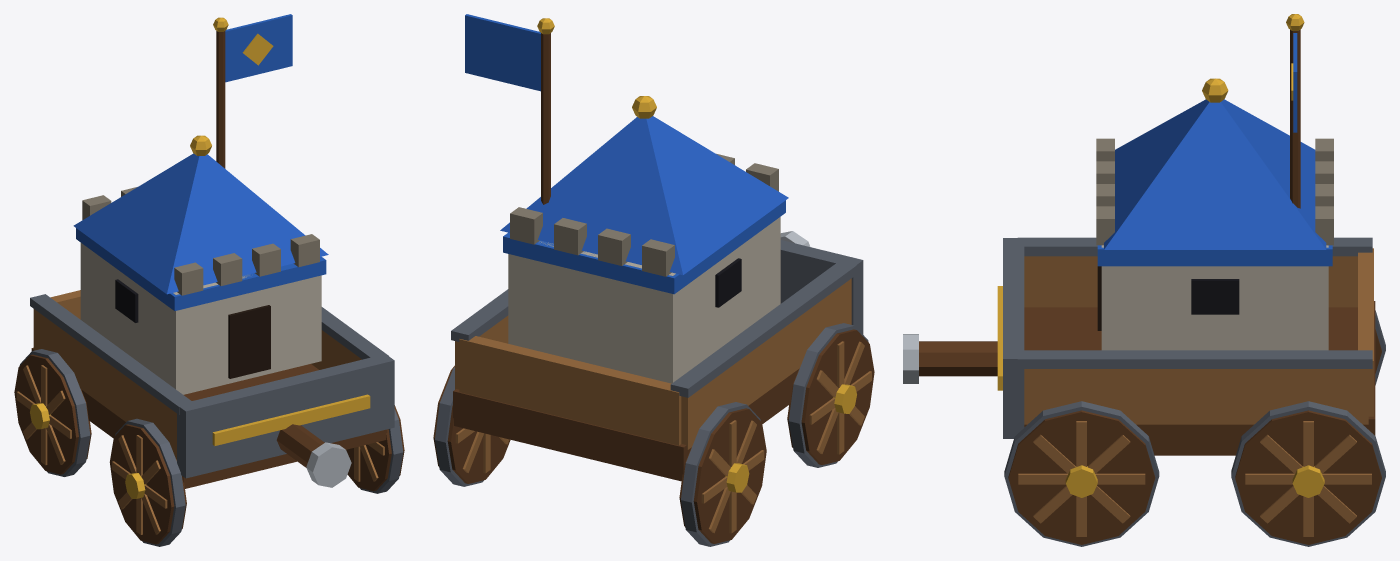
The model's file is war_wagon.fbx.
3 renders of one model, left to right at view 1: azimuth 30°, elevation 25°; view 2: azimuth 150°, elevation 25°; view 3: azimuth 270°, elevation 25°, orthographic. The views are drawn at different scales.
Parts seen in each view (by area): view 1: war_wagon_Body, war_wagon_Roof, war_wagon_WheelBL, war_wagon_WheelFL, war_wagon_Flag, war_wagon_WheelFR; view 2: war_wagon_Body, war_wagon_Roof, war_wagon_WheelBL, war_wagon_WheelFL, war_wagon_Flag, war_wagon_WheelBR; view 3: war_wagon_Body, war_wagon_Roof, war_wagon_WheelBR, war_wagon_WheelFR, war_wagon_Flag.
Part boxes in pixels (x1,y1,x2,y2): war_wagon_Body: (30,187,394,488); war_wagon_Roof: (73,135,328,294); war_wagon_WheelBL: (14,349,91,476); war_wagon_WheelFL: (109,418,186,546); war_wagon_Flag: (213,14,292,168); war_wagon_WheelFR: (346,405,404,493); war_wagon_Body: (451,153,863,481); war_wagon_Roof: (500,96,788,275); war_wagon_WheelBL: (679,402,766,546); war_wagon_WheelFL: (787,323,874,467); war_wagon_Flag: (465,14,554,204); war_wagon_WheelBR: (433,365,510,486); war_wagon_Body: (903,138,1375,455); war_wagon_Roof: (1104,78,1326,249); war_wagon_WheelBR: (1231,401,1385,546); war_wagon_WheelFR: (1004,401,1159,546); war_wagon_Flag: (1286,14,1304,208).
Bounding box in the file's own units: 2.58 × 4.12 × 3.62.
